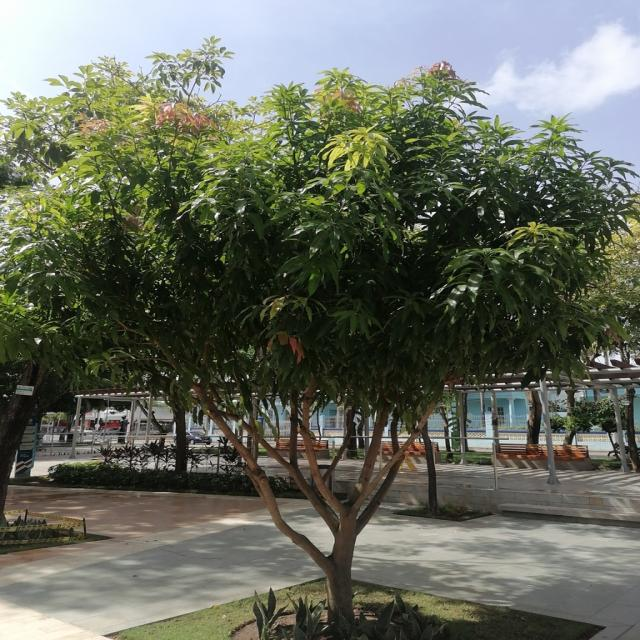Mango-Tree: (158, 78, 524, 542)
